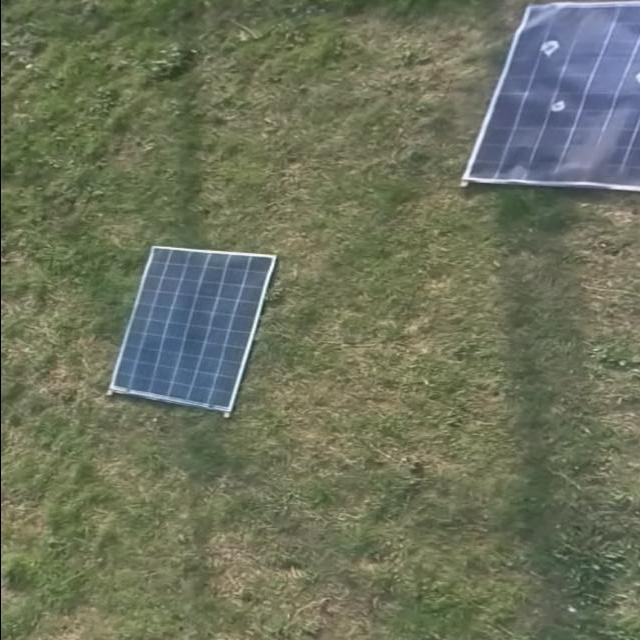soiled: (459, 1, 639, 183)
